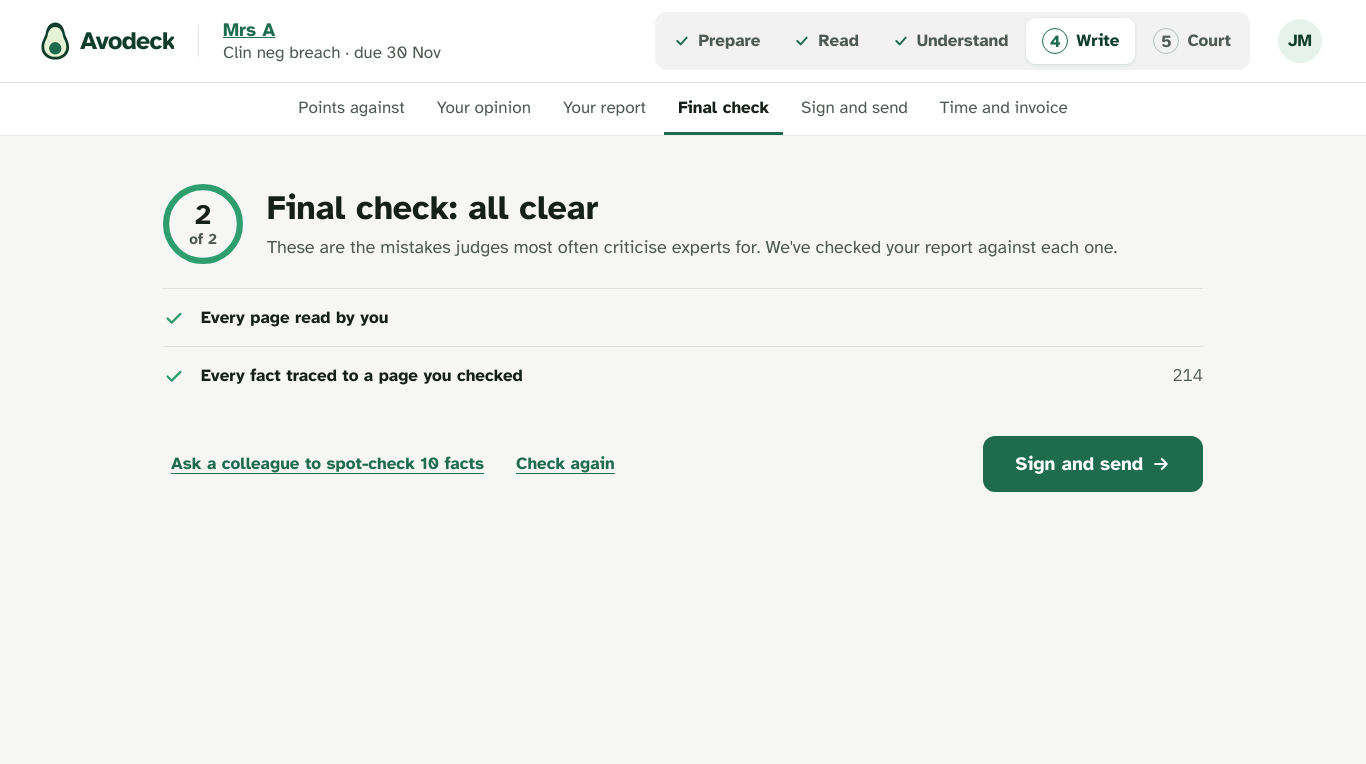
Test: sending a spot-check is busy and sends once
Click the button "Ask a colleague to spot-check 10 facts".
click(328, 464)  # box left=163, top=438, right=492, bottom=490
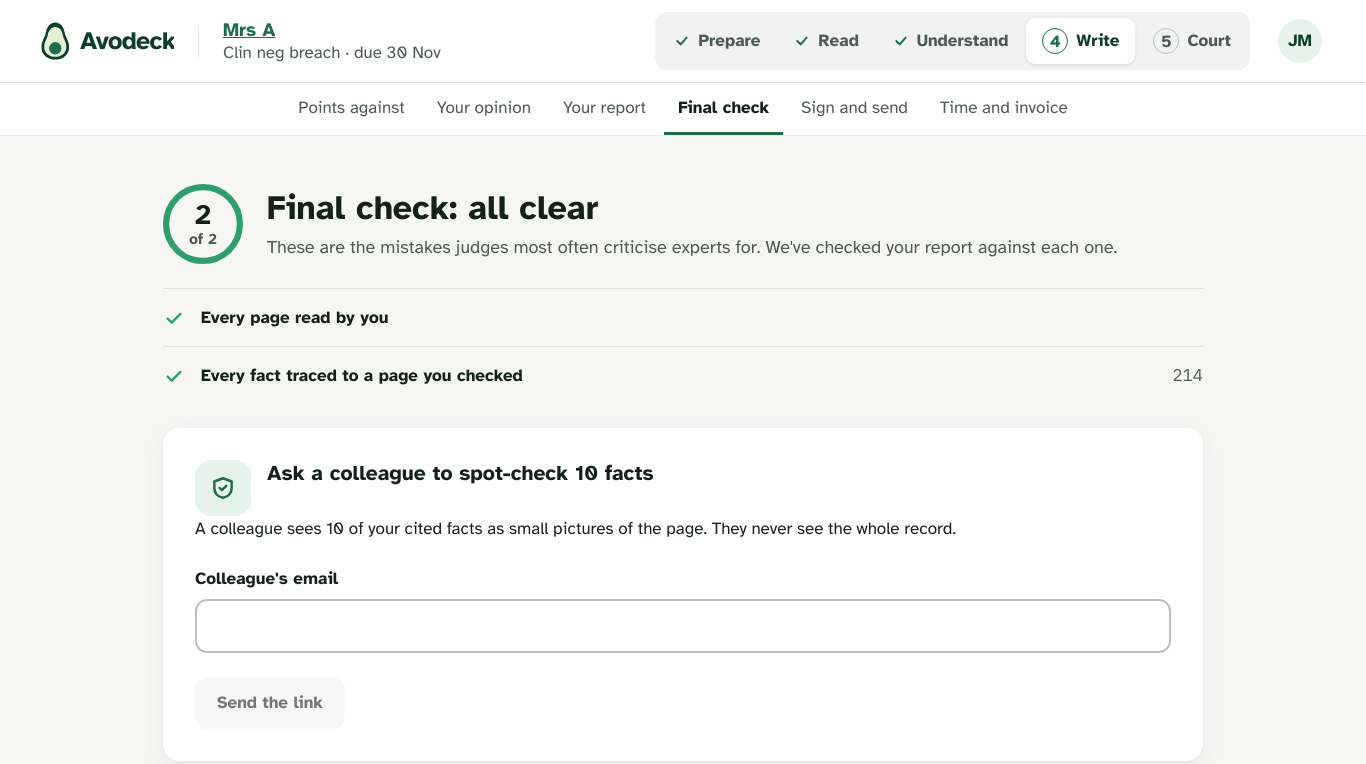
Type "colleague@example.test" into the field labelled "Colleague's email".
click(683, 626); type("colleague@example.test")  # box left=195, top=599, right=1171, bottom=652
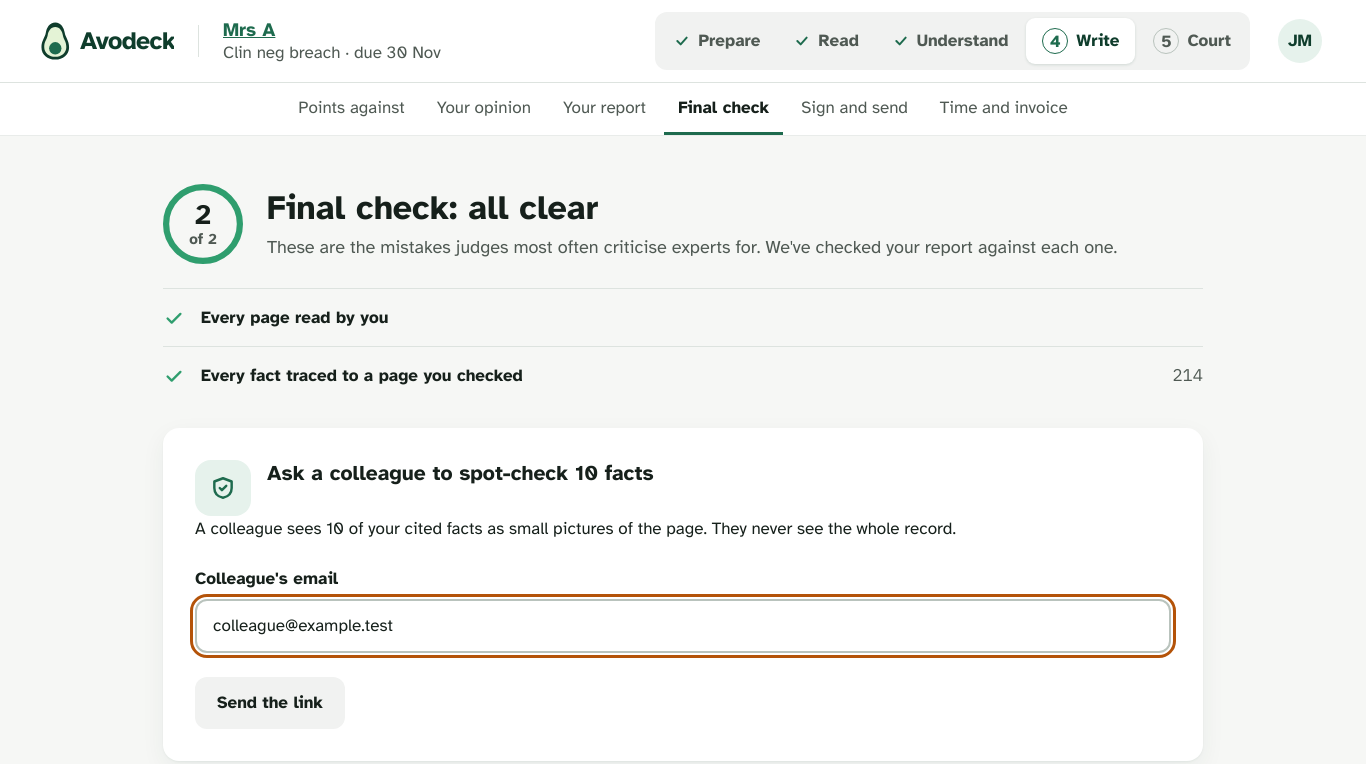
Click the button "Send the link".
click(270, 702)  # box left=195, top=676, right=345, bottom=728
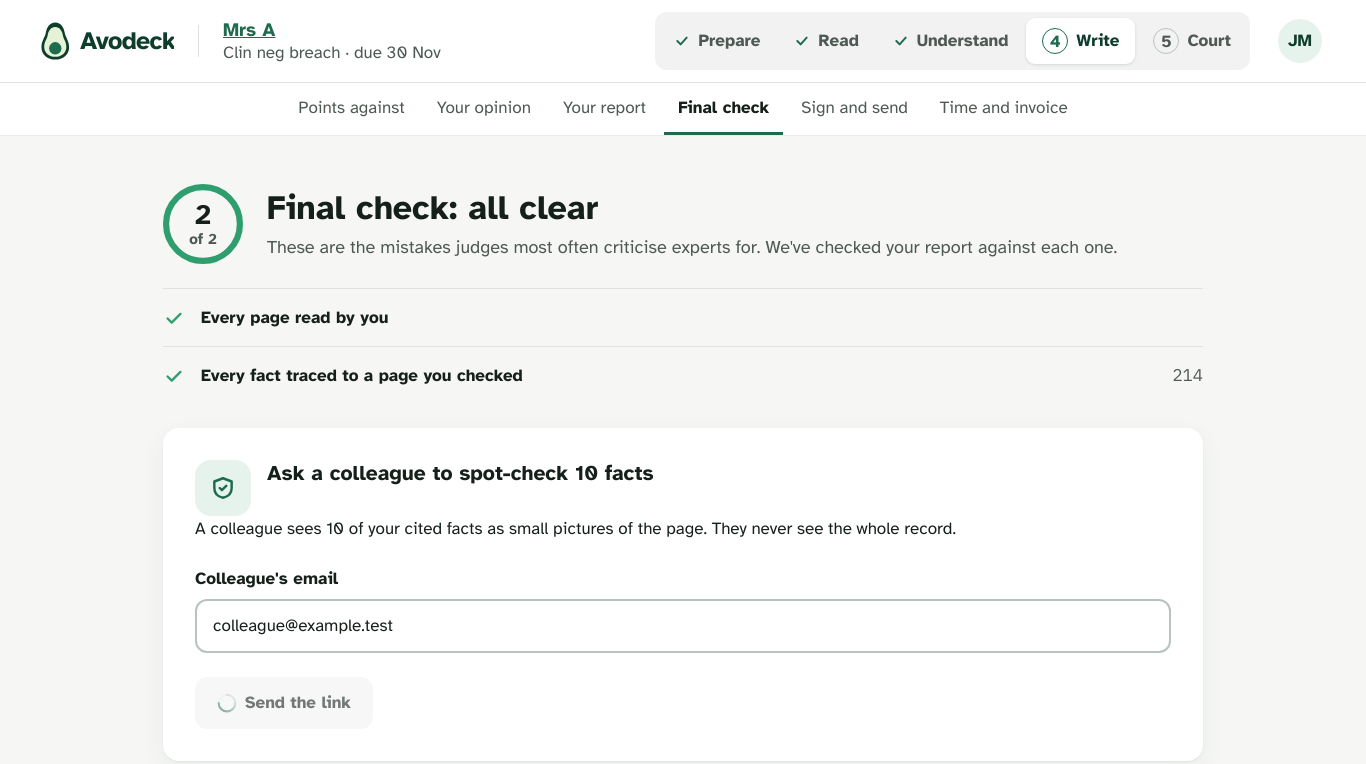
Now the button "Send the link" is disabled
Click the button "Send the link".
click(284, 702)  # box left=195, top=676, right=373, bottom=728
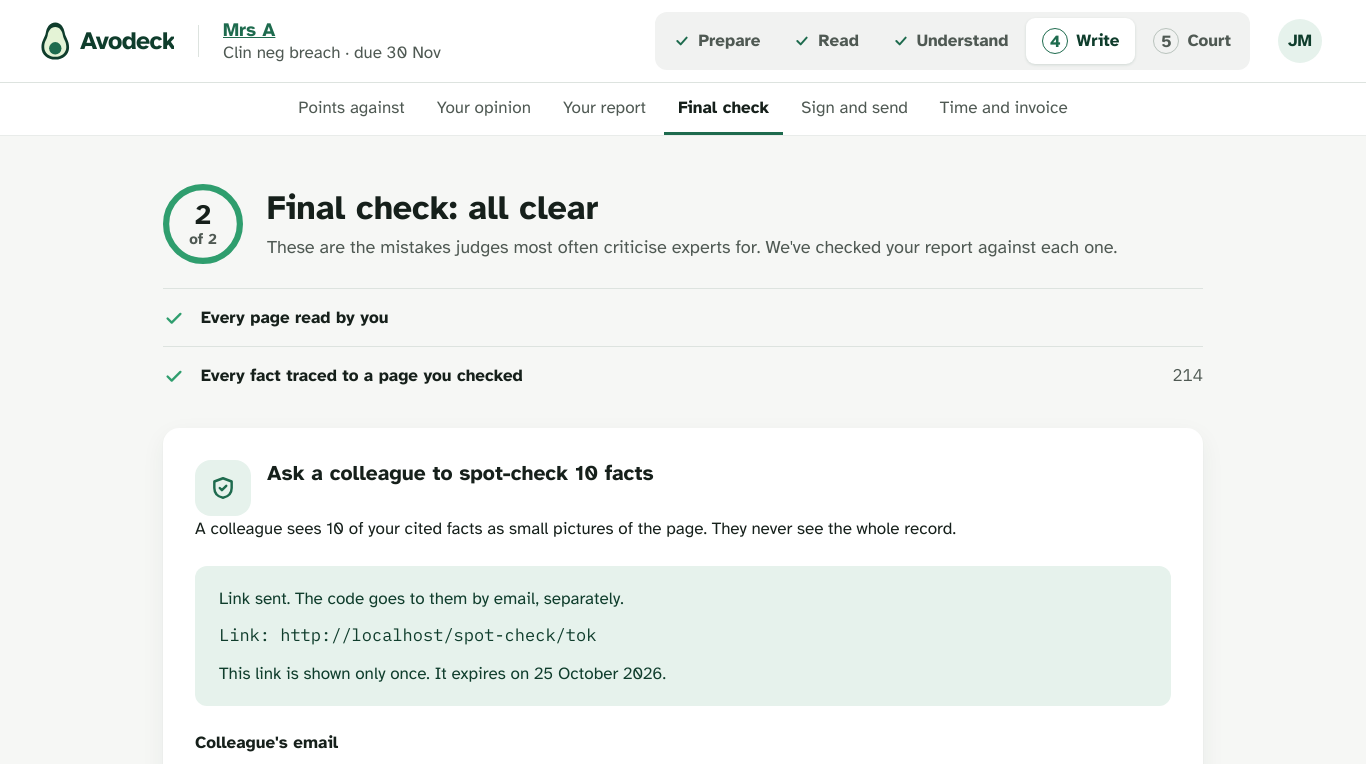
Now the text "Link sent. The code goes to them by email, separately." is shown, box left=219, top=588, right=624, bottom=608
